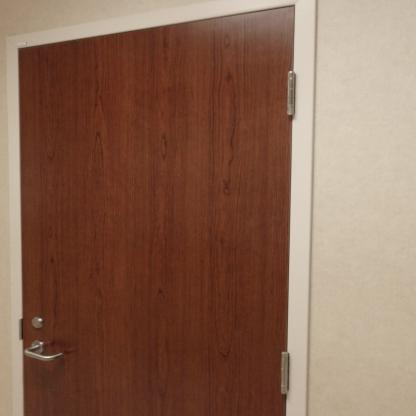door: (21, 13, 297, 415)
hinged: (285, 71, 297, 115), (280, 350, 291, 396)
lever: (23, 342, 65, 364)
